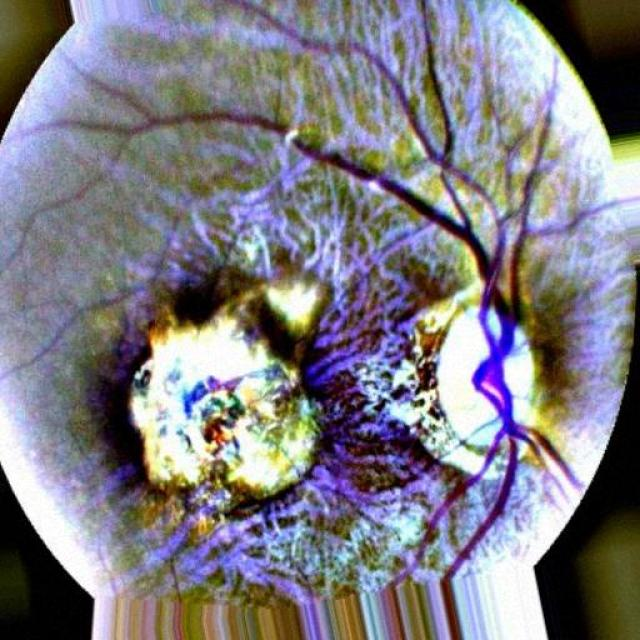Macula: (130, 300, 321, 508)
Nerves: (224, 0, 616, 578), (21, 110, 292, 136)
Optic Disk: (438, 302, 532, 448)
